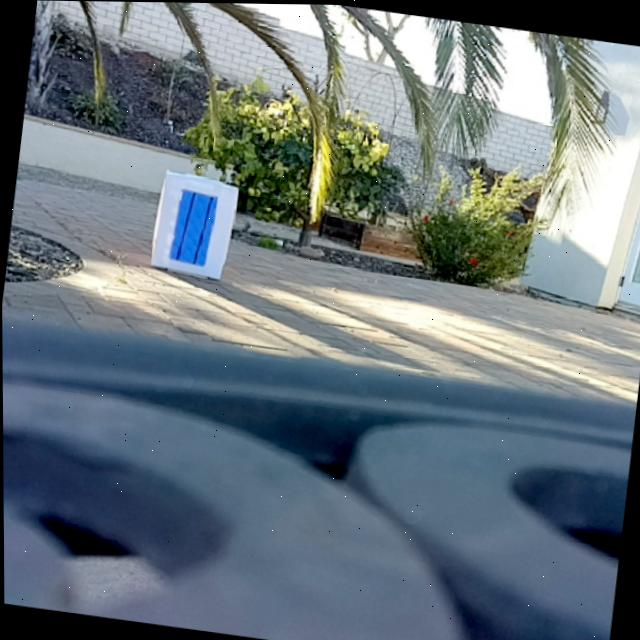led: (169, 186, 217, 266)
